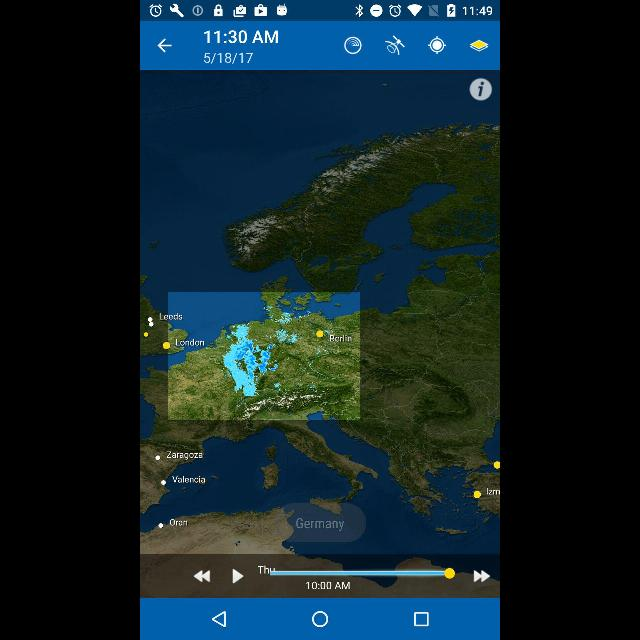icon: (383, 35, 405, 57), (343, 36, 362, 56), (428, 36, 446, 54), (312, 611, 328, 627), (469, 40, 488, 52), (212, 611, 226, 627), (158, 39, 172, 53), (414, 612, 428, 626)
map: (141, 70, 499, 598)
panel: (140, 598, 500, 640)
text: (204, 30, 278, 44), (204, 53, 252, 63)
toolbar: (140, 20, 500, 70)
uppertaskbar: (140, 1, 500, 21)
